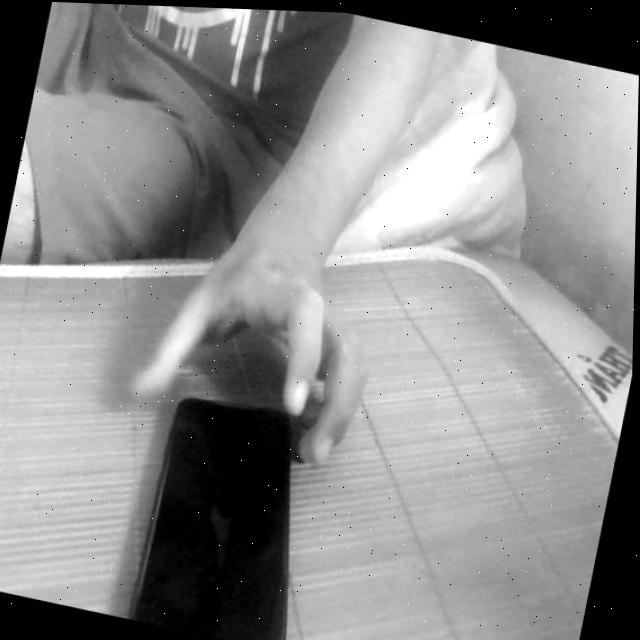phone: (107, 344, 351, 640)
